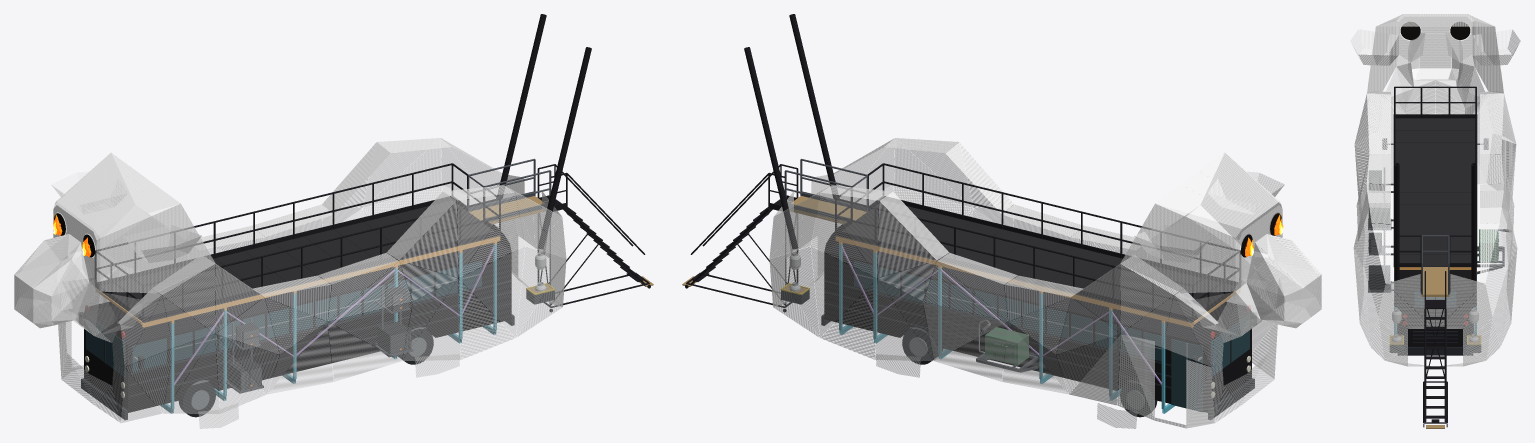
The model's file is baaabs-workshop-v24-six-station.glb.
3 renders of one model, left to right at view 1: azimuth 30°, elevation 25°; view 2: azimuth 150°, elevation 25°; view 3: azimuth 270°, elevation 25°, orthographic. The views are drawn at different scales.
Visible parts, largest first — view 1: Bus__Body_96in_wide, B-D-043 | Driver Skirt 02 a, B-D-038 | Driver Flank 07 b, B-D-036 | Driver Flank 06 b, B-D-047 | Driver Skirt 04 a, B-D-037 | Driver Flank 07 a, B-D-045 | Driver Skirt 03 a, B-D-033 | Driver Flank 05 a, B-D-028 | Driver Flank 02 b, H-D-014 | Driver head side upper, H-D-001 | Driver continuous side, H-D-016 | Driver head side upper · section 2 (+87 smaller); view 2: Bus__Body_96in_wide, B-P-046 | Passenger Flank 07 b, B-P-044 | Passenger Flank 06 b, B-P-055 | Passenger Skirt 04 a, Bus__Entrance_door, B-P-045 | Passenger Flank 07 a, B-P-041 | Passenger Flank 05 a, B-P-036 | Passenger Flank 02 b, H-P-014 | Passenger head side upper, B-P-053 | Passenger Skirt 03 a, H-P-001 | Passenger continuous side, H-P-017 | Passenger head side upper · section 2 (+89 smaller); view 3: Bus__Body_96in_wide, B-P-021 | Passenger Crown 03 a, B-D-013 | Driver Crown 03 a, Bus__Rear_engine_hatch, Dancefloor_section_01, Dancefloor_section_02, Dancefloor_section_03, Dancefloor_section_04, B-D-059 | Driver Rear surround 06 a, B-P-015 | Passenger Rear surround 05 a, Dancefloor_section_06, Dancefloor_section_09 (+109 smaller).
Part boxes in pixels (x1,y1,x2,y2): Bus__Body_96in_wide: (84, 241, 511, 412); B-D-043 | Driver Skirt 02 a: (163, 335, 219, 413); B-D-038 | Driver Flank 07 b: (457, 193, 514, 276); B-D-036 | Driver Flank 06 b: (399, 201, 458, 277); B-D-047 | Driver Skirt 04 a: (268, 322, 333, 393); B-D-037 | Driver Flank 07 a: (459, 194, 524, 277); B-D-045 | Driver Skirt 03 a: (215, 335, 265, 413); B-D-033 | Driver Flank 05 a: (329, 261, 412, 320); B-D-028 | Driver Flank 02 b: (163, 264, 215, 332); H-D-014 | Driver head side upper: (100, 214, 156, 259); H-D-001 | Driver continuous side: (100, 256, 150, 292); H-D-016 | Driver head side upper · section 2: (156, 203, 207, 253); Bus__Body_96in_wide: (824, 241, 1251, 412); B-P-046 | Passenger Flank 07 b: (821, 193, 878, 276); B-P-044 | Passenger Flank 06 b: (877, 201, 936, 277); B-P-055 | Passenger Skirt 04 a: (1002, 322, 1067, 393); Bus__Entrance_door: (1171, 339, 1202, 411); B-P-045 | Passenger Flank 07 a: (811, 194, 876, 277); B-P-041 | Passenger Flank 05 a: (923, 261, 1006, 320); B-P-036 | Passenger Flank 02 b: (1120, 264, 1172, 332); H-P-014 | Passenger head side upper: (1179, 214, 1235, 259); B-P-053 | Passenger Skirt 03 a: (1069, 334, 1120, 405); H-P-001 | Passenger continuous side: (1185, 256, 1235, 292); H-P-017 | Passenger head side upper · section 2: (1128, 203, 1179, 253); Bus__Body_96in_wide: (1397, 270, 1473, 346); B-P-021 | Passenger Crown 03 a: (1480, 93, 1503, 154); B-D-013 | Driver Crown 03 a: (1367, 93, 1390, 154); Bus__Rear_engine_hatch: (1408, 321, 1462, 346); Dancefloor_section_01: (1393, 118, 1477, 130); Dancefloor_section_02: (1393, 130, 1477, 142); Dancefloor_section_03: (1393, 143, 1477, 155); Dancefloor_section_04: (1393, 155, 1477, 167); B-D-059 | Driver Rear surround 06 a: (1386, 274, 1435, 326); B-P-015 | Passenger Rear surround 05 a: (1435, 274, 1484, 326); Dancefloor_section_06: (1393, 180, 1477, 192); Dancefloor_section_09: (1393, 217, 1477, 229).
Bounding box in the file's own units: 19.95 × 8.42 × 5.52.
Materials: 238 (206 with a texture image).
